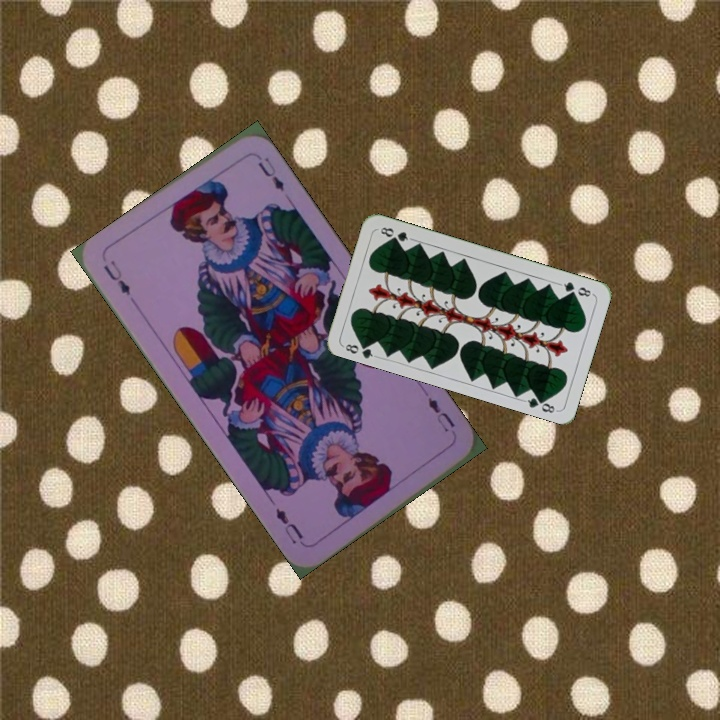EU: (99, 256, 134, 298), (423, 393, 458, 430)
G8: (339, 337, 379, 361), (556, 278, 595, 299)
